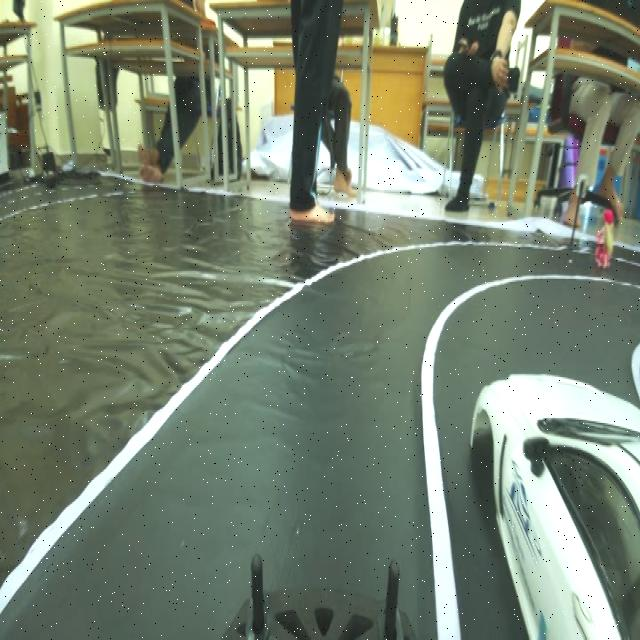car: (481, 332, 640, 640)
